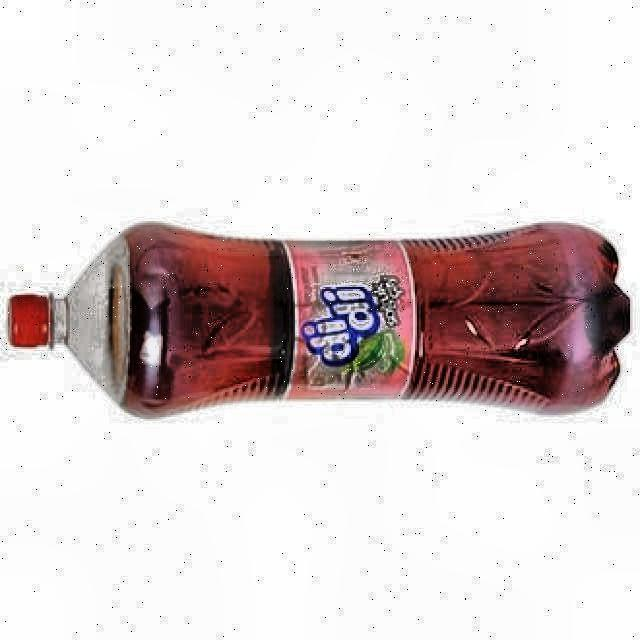plastic: (9, 222, 631, 416)
